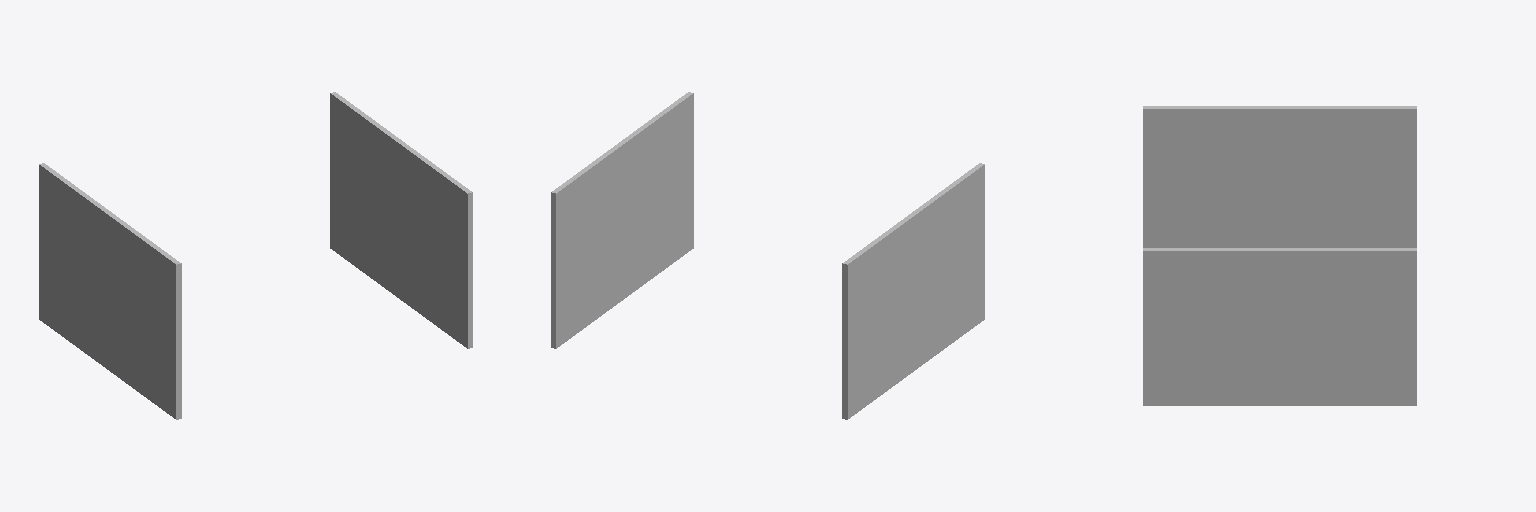
The model's file is SM_PortaElevador.obj.
The picture shows the model from 3 angles: view 1: azimuth 30°, elevation 25°; view 2: azimuth 150°, elevation 25°; view 3: azimuth 270°, elevation 25°; orthographic projection.
Visible parts, largest first — view 1: PortaElevador_Cube.002; view 2: PortaElevador_Cube.002; view 3: PortaElevador_Cube.002.
Boxes of the visible parts, <box> form: PortaElevador_Cube.002: <box>39,92,472,419</box>; PortaElevador_Cube.002: <box>551,92,984,419</box>; PortaElevador_Cube.002: <box>1143,106,1416,405</box>.
Size of the model in its own units: 2.85 by 1.43 by 2.29.